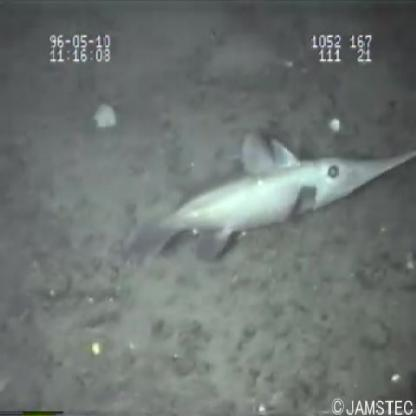Bio: (127, 130, 416, 270)
